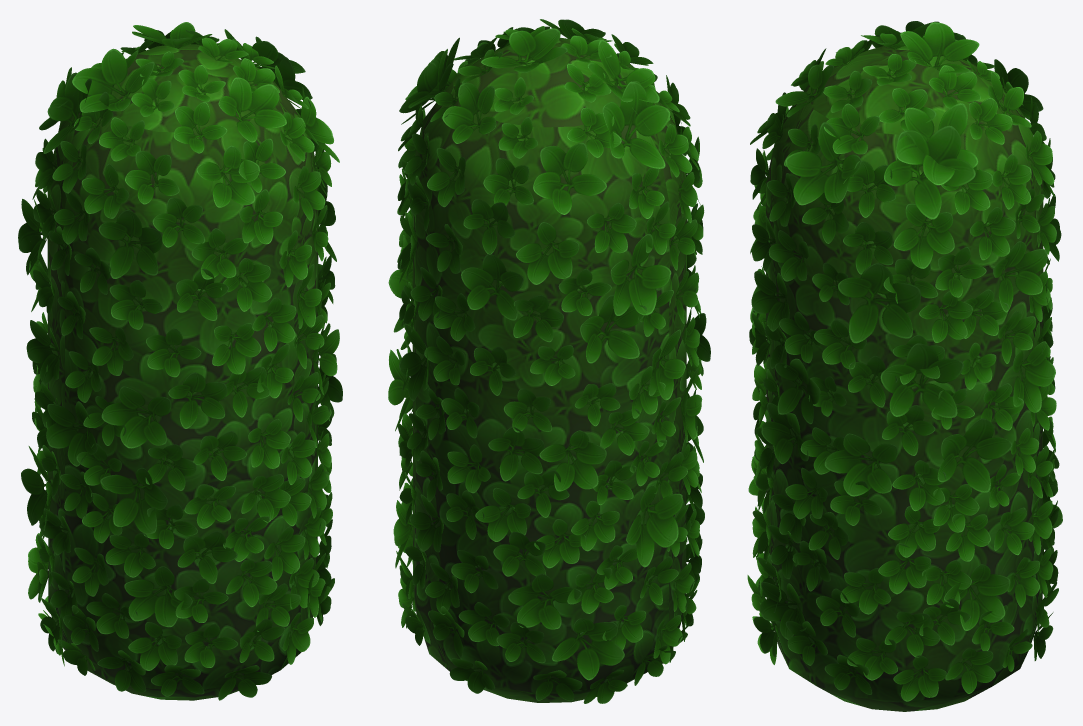
File: SE_Hedge_02.fbx
3 views of the same model, side by side, from view 1: azimuth 30°, elevation 25°; view 2: azimuth 150°, elevation 25°; view 3: azimuth 270°, elevation 25° (orthographic).
Visible parts, largest first — view 1: SE_Hedge_02; view 2: SE_Hedge_02; view 3: SE_Hedge_02.
Boxes of the visible parts, x1,y1,x2,y2 form: SE_Hedge_02: (18,22,342,700); SE_Hedge_02: (388,19,710,703); SE_Hedge_02: (747,21,1062,711).
Bounding box in the file's own units: 2.66 × 5.72 × 2.58.
